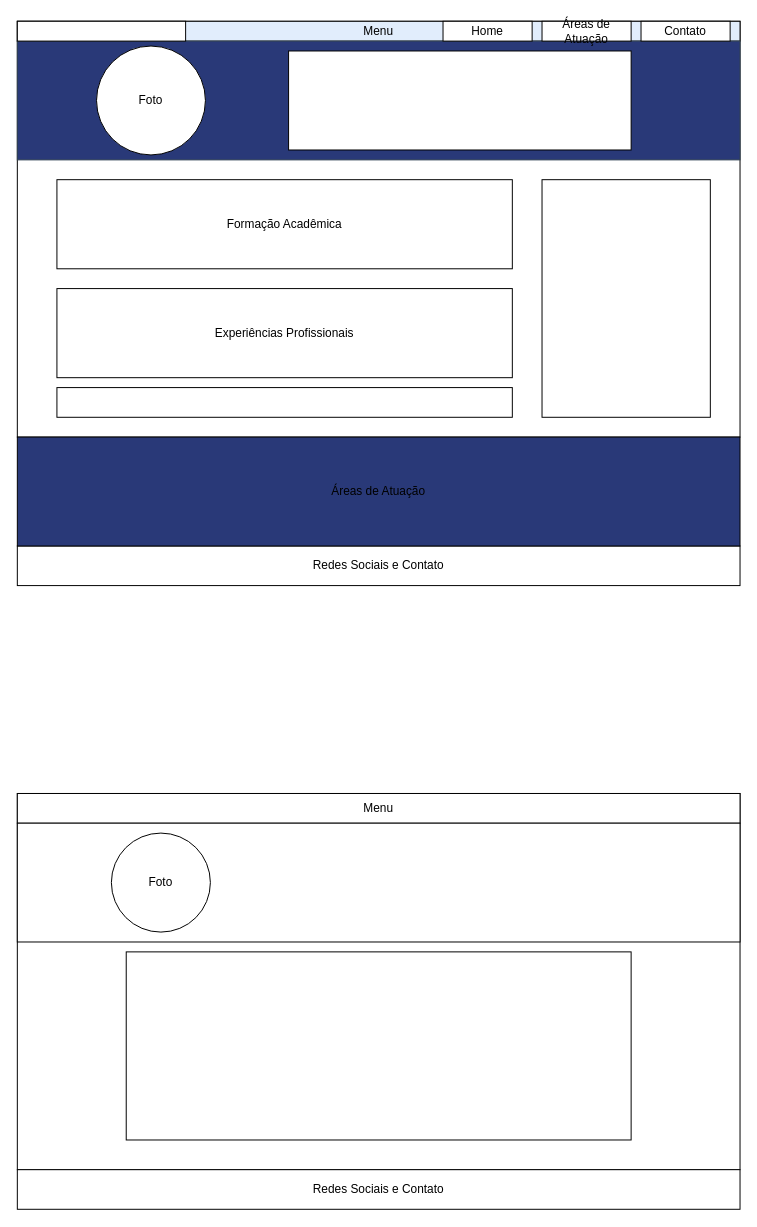
Image size: 757x1227. Some labels were removed from this diagram. Each missing label, with the box of its shape:
Envie uma mensagem: (125, 951, 631, 1140)
Formulário de Contato: (16, 822, 740, 942)
Interesses e Habilidades: (541, 179, 710, 417)
Nome: (16, 20, 186, 41)
Nome e Sobre Mim: (288, 50, 631, 150)
Outras Conquistas: (56, 387, 512, 417)
